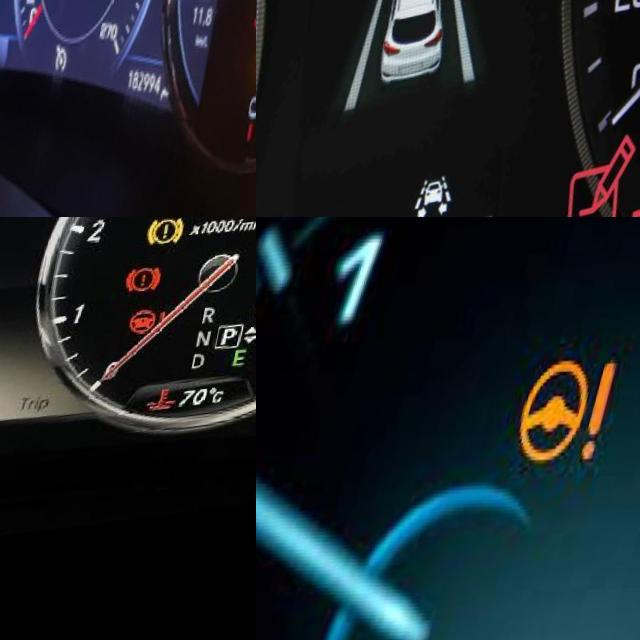Electronic Power Steering: (517, 366, 633, 492)
Engine cooling system: (159, 390, 197, 422)
